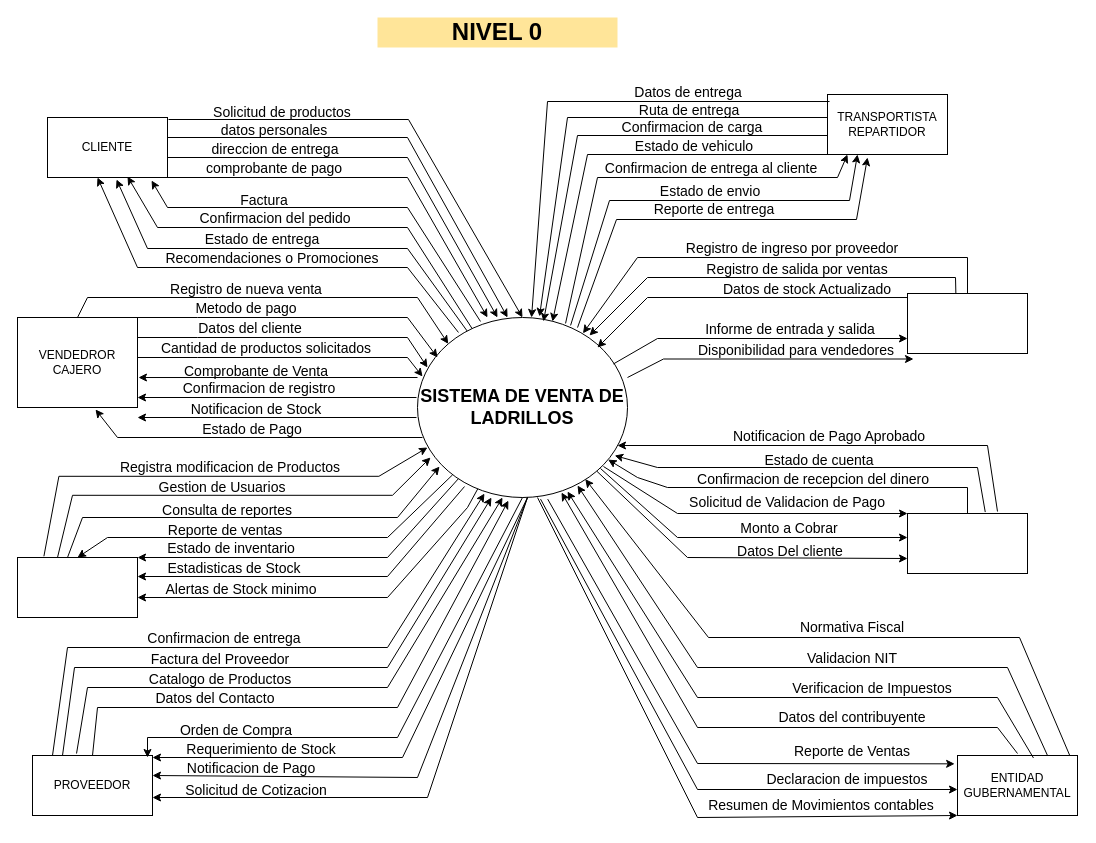
Some shapes in this 1096 by 843 pixel diagram are drawn without their labels. The centre of each missing label's shape, as x and y in pixels:
"ADMINISTRADOR DEL SISTEMA" belongs at point 77,587.
"ENTIDAD FINANCIERA" belongs at point 967,543.
"SISTEMA DE INVENTARIO ALMACEN" belongs at point 967,323.
